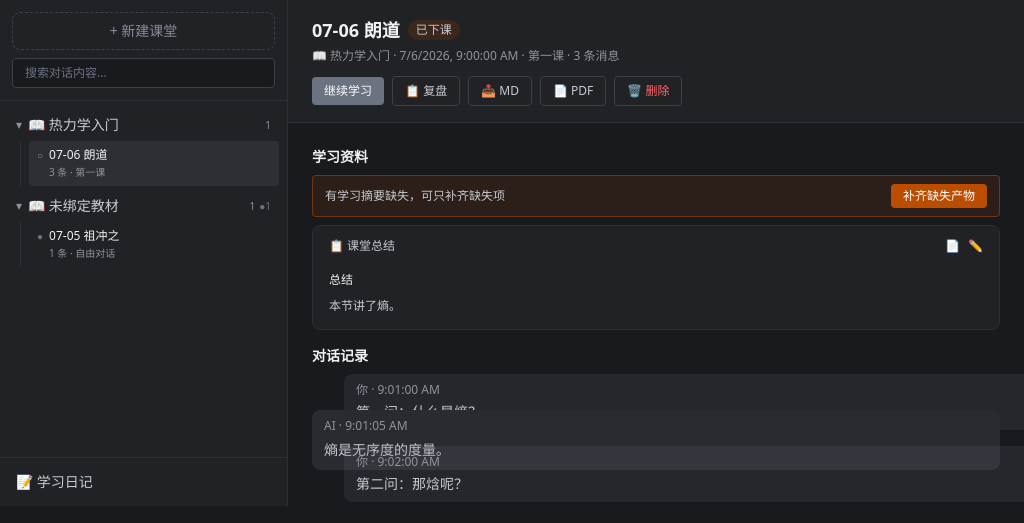
Test: HistoryView › switches the detail panel when another lesson is clicked
Expected: the text "第一问：什么是熵？" is shown, [356,402,482,421]
Note: Click the second lesson ("07-05 祖冲之" row).
Click the button "● 07-05 祖冲之 1 条 · 自由对话". click: coordinates (154, 244)
box: [29,222,279,267]
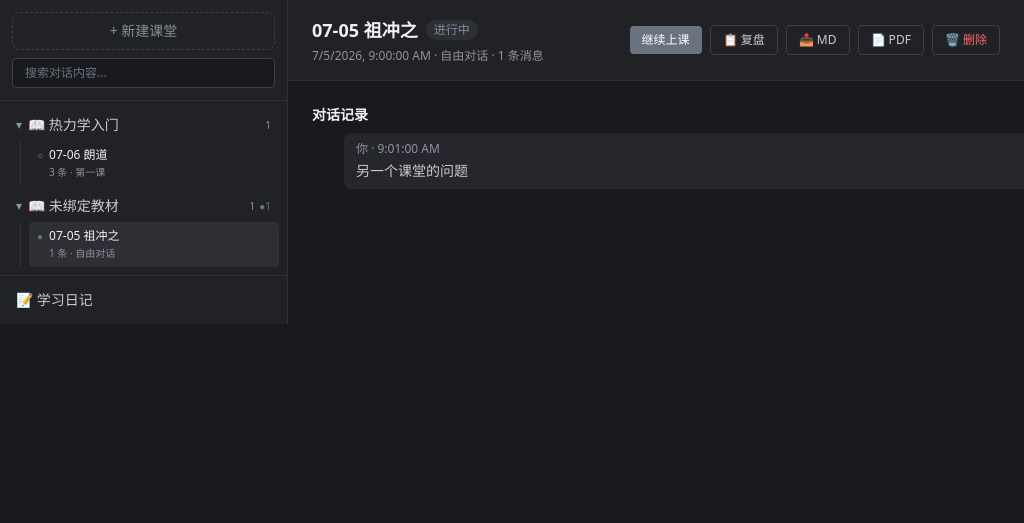
Expected: the text "另一个课堂的问题" is shown, [356,161,468,180]
Expected: the text "第一问：什么是熵？" is gone
